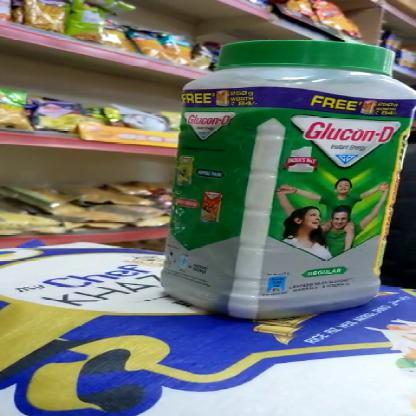Glucon D Regular 2-KG: (171, 41, 403, 315)
